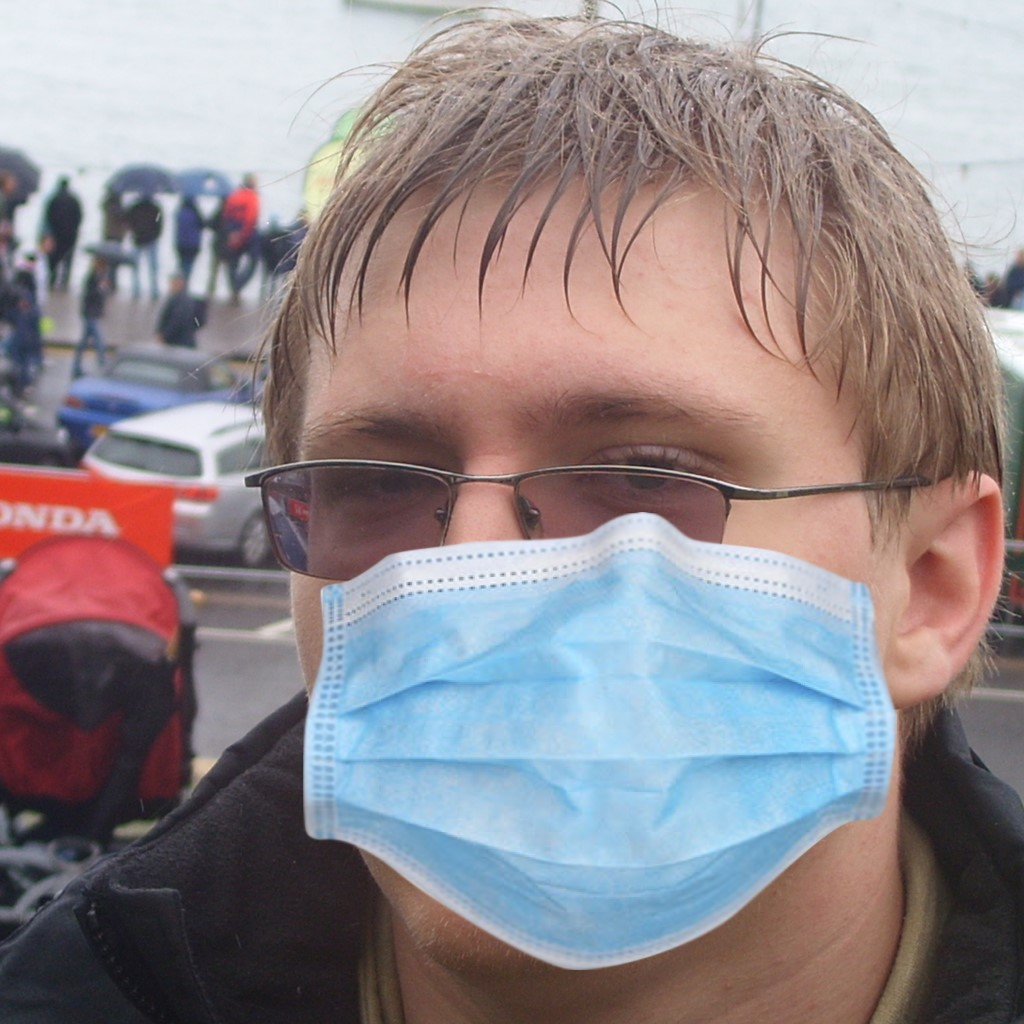con_mascara: (253, 24, 999, 944)
